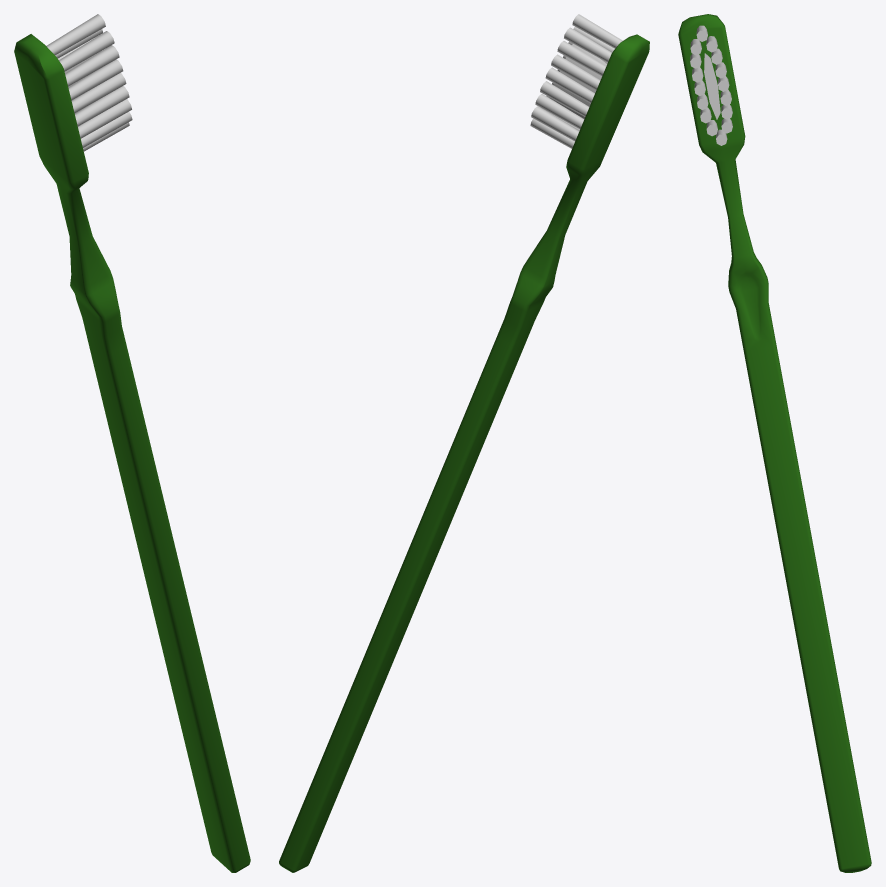
File: Bathroom_Anim_2Import.fbx
The picture shows the model from 3 angles, left to right: view 1: azimuth 30°, elevation 25°; view 2: azimuth 150°, elevation 25°; view 3: azimuth 270°, elevation 25°; orthographic projection. The views are drawn at different scales.
Parts seen in each view (by area): view 1: Bathroom_Bursh_Handle_02, Bathroom_Bristle_10, Bathroom_Bristle_3, Bathroom_Bristle, Bathroom_Bristle_4, Bathroom_Bristle_8, Bathroom_Bristle_7, Bathroom_Bristle_17, Bathroom_Bristle_16; view 2: Bathroom_Bursh_Handle_02; view 3: Bathroom_Bursh_Handle_02, Bathroom_Bristle_11.
Boxes of the visible parts, box(x1,y1,x2,y2) form: Bathroom_Bursh_Handle_02: box(14, 34, 250, 872); Bathroom_Bristle_10: box(46, 14, 105, 55); Bathroom_Bristle_3: box(65, 45, 119, 86); Bathroom_Bristle: box(59, 31, 114, 71); Bathroom_Bristle_4: box(68, 59, 123, 100); Bathroom_Bristle_8: box(75, 86, 129, 126); Bathroom_Bristle_7: box(71, 73, 126, 112); Bathroom_Bristle_17: box(78, 99, 131, 138); Bathroom_Bristle_16: box(81, 111, 132, 147); Bathroom_Bursh_Handle_02: box(279, 34, 649, 872); Bathroom_Bursh_Handle_02: box(678, 14, 871, 872); Bathroom_Bristle_11: box(704, 53, 720, 119).
Size of the model in its own units: 11.02 by 32.76 by 7.59.
